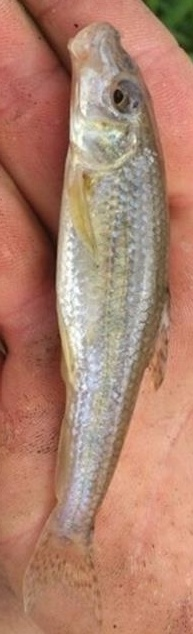Gobio gobio: (20, 20, 173, 614)
